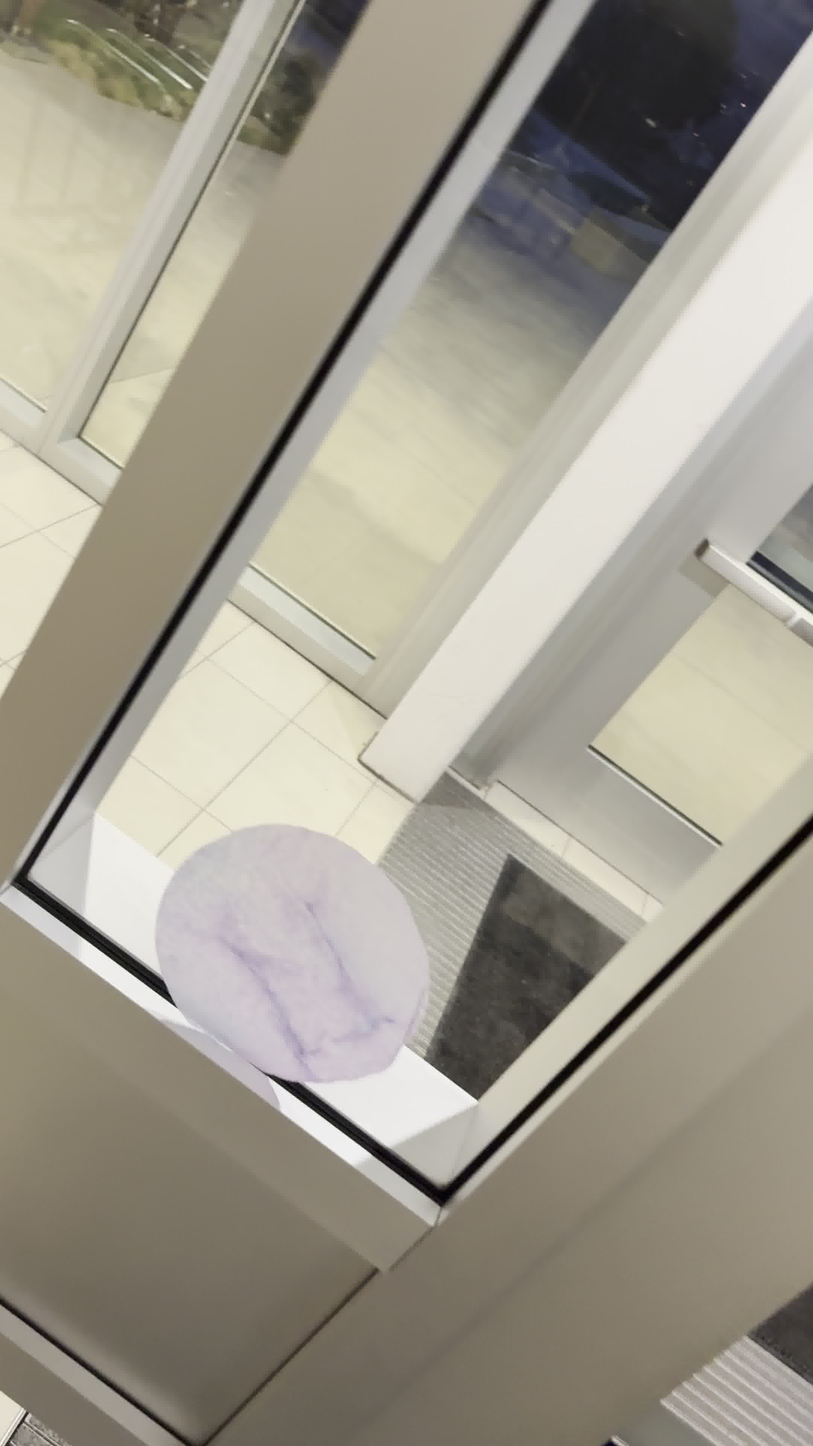Target: (149, 822, 434, 1085)
